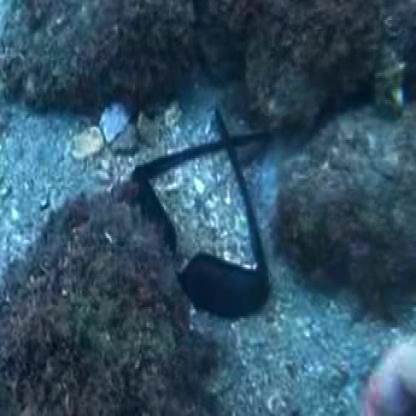sunglasses: (125, 114, 310, 352)
